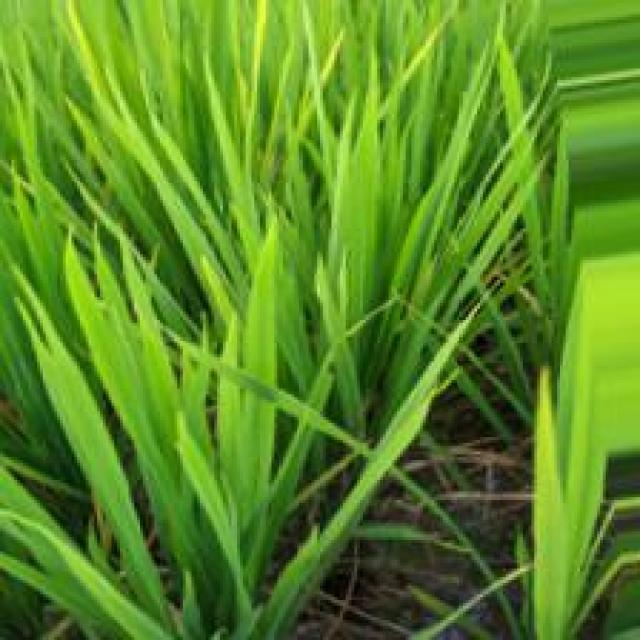HealthyLeaf: (47, 371, 138, 517), (88, 329, 159, 440), (341, 180, 375, 279)
